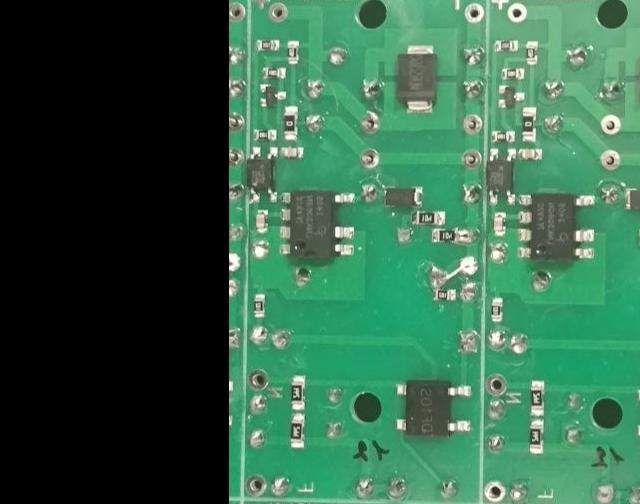chip-capacitor: (254, 207, 269, 233), (493, 210, 507, 237), (518, 147, 543, 161), (280, 145, 304, 158)
chip-resistor: (289, 373, 307, 409), (521, 106, 538, 143), (289, 411, 305, 449), (529, 378, 545, 415), (282, 104, 298, 141), (528, 417, 544, 453), (410, 209, 446, 225), (431, 227, 459, 244), (524, 39, 540, 65), (492, 38, 519, 53), (260, 65, 288, 79), (255, 37, 281, 52), (251, 127, 278, 141), (490, 128, 516, 142), (499, 66, 525, 80), (252, 291, 266, 317), (286, 38, 300, 64), (431, 286, 457, 300), (490, 295, 503, 321)
diode: (394, 40, 438, 114), (380, 185, 424, 209)
ic: (517, 190, 595, 261), (278, 187, 356, 257), (393, 379, 472, 437), (487, 145, 517, 206), (247, 144, 278, 203)
transistor: (257, 81, 287, 108), (497, 82, 526, 109)
